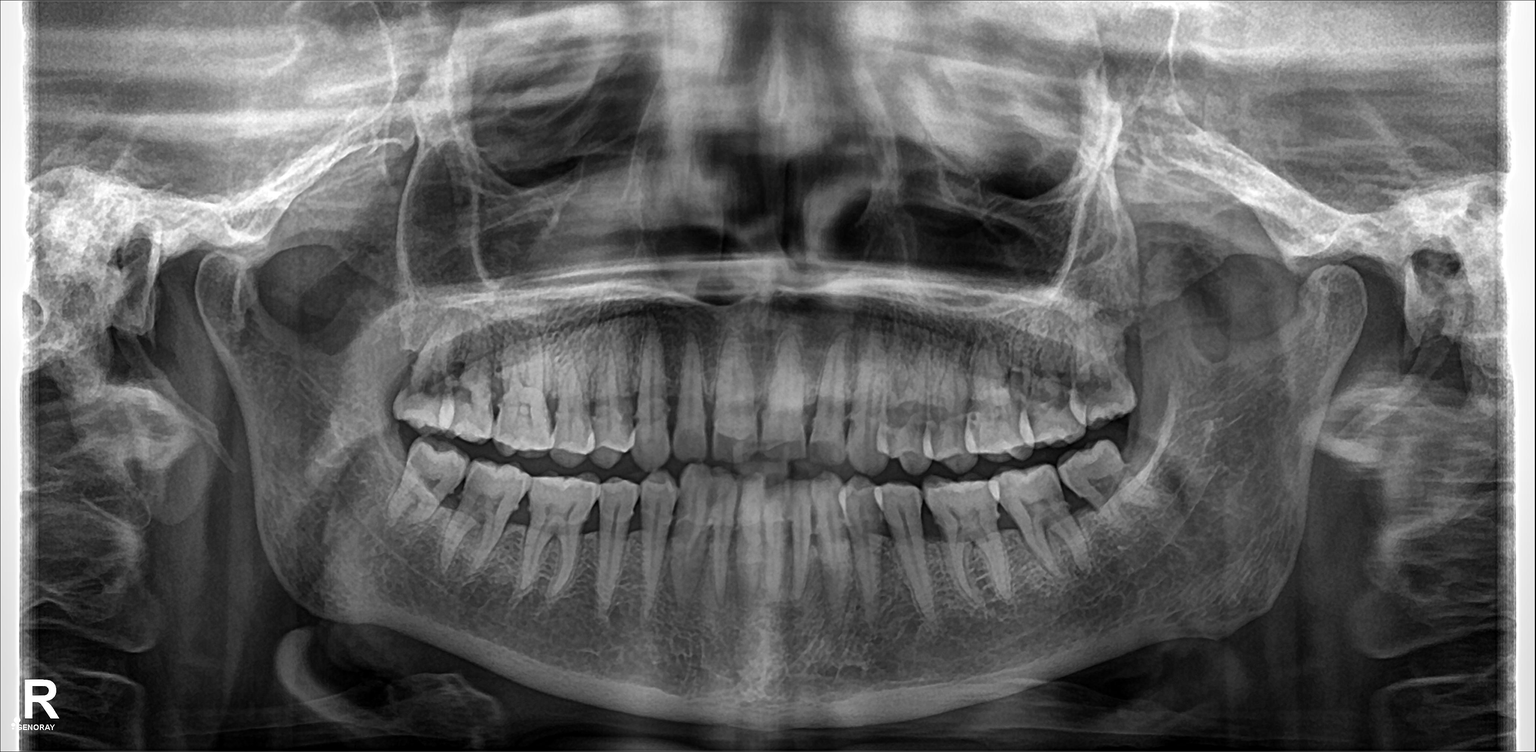Dental Caries: (1076, 372, 1113, 401)
